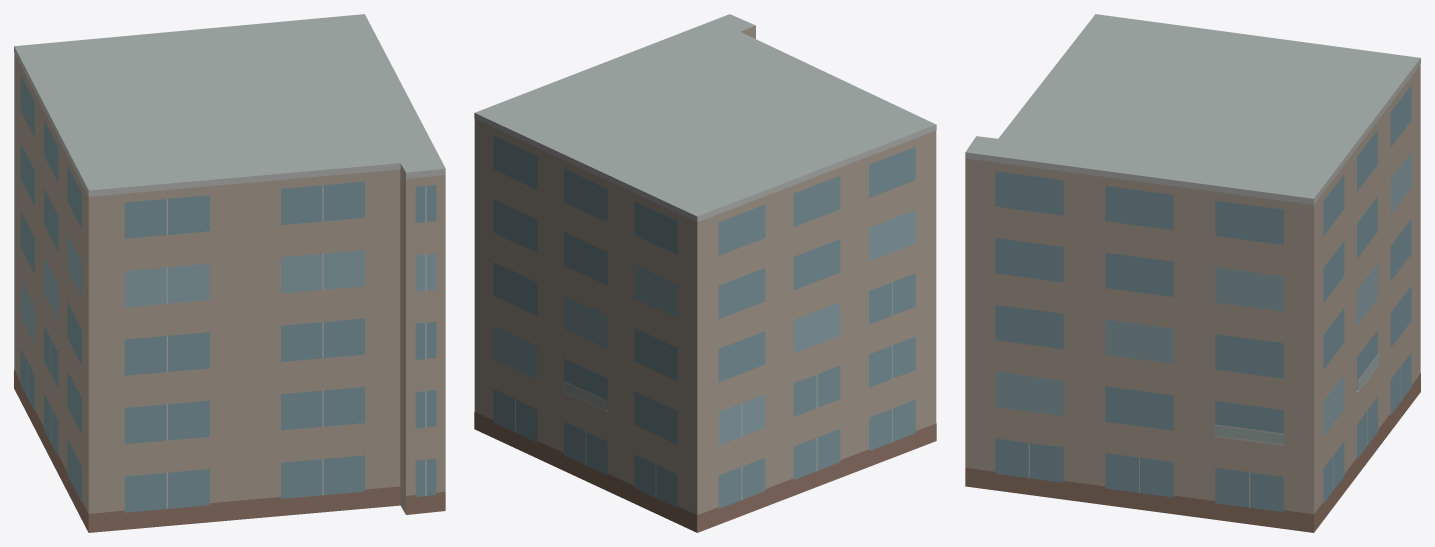
The model's file is survey-upis-32882516.glb.
The picture shows the model from 3 angles, left to right: view 1: azimuth 30°, elevation 25°; view 2: azimuth 150°, elevation 25°; view 3: azimuth 270°, elevation 25°; orthographic projection. The views are drawn at different scales.
Parts seen in each view (by area): view 1: survey-upis-32882516.tmp; view 2: survey-upis-32882516.tmp; view 3: survey-upis-32882516.tmp.
Boxes of the visible parts, <box> form: survey-upis-32882516.tmp: <box>14,14,445,532</box>; survey-upis-32882516.tmp: <box>474,14,936,532</box>; survey-upis-32882516.tmp: <box>965,14,1420,532</box>.
Bounding box in the file's own units: 15.91 × 13.4 × 16.57.
